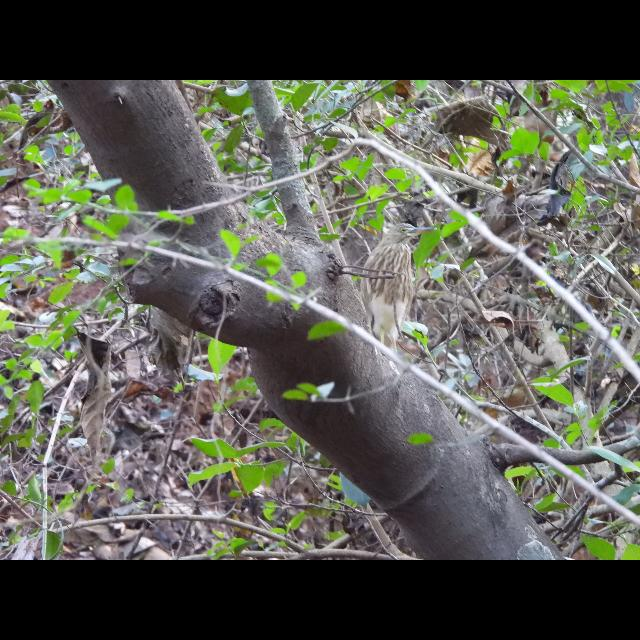heron: (362, 217, 438, 363)
